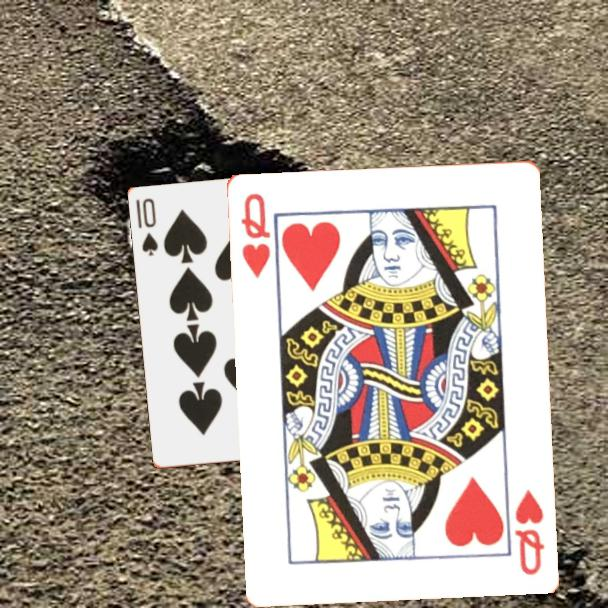h12: (237, 189, 273, 281), (511, 485, 546, 577)
s10: (133, 195, 161, 259)
